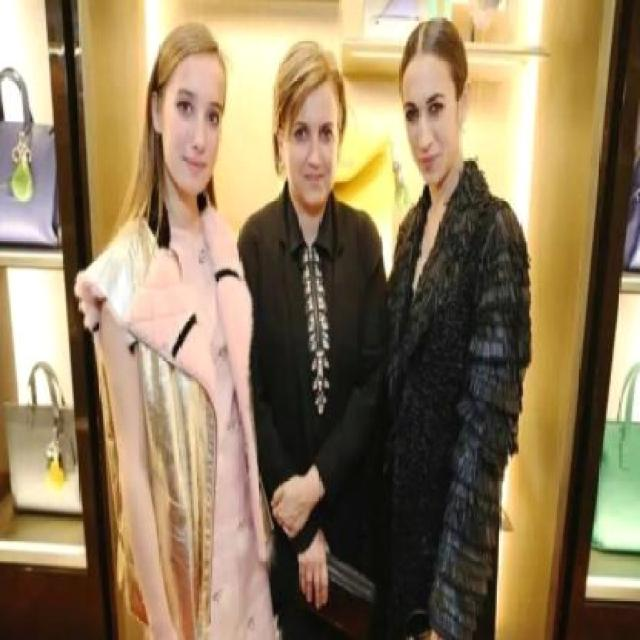face_nomask: (162, 85, 224, 197), (402, 75, 462, 178), (290, 105, 342, 209)
hand_noglove: (269, 474, 314, 538), (298, 537, 329, 611)
head_nohelmet: (137, 22, 234, 86), (278, 40, 344, 108), (398, 17, 468, 81)
person: (355, 14, 528, 635), (98, 11, 250, 640), (243, 38, 371, 640)
